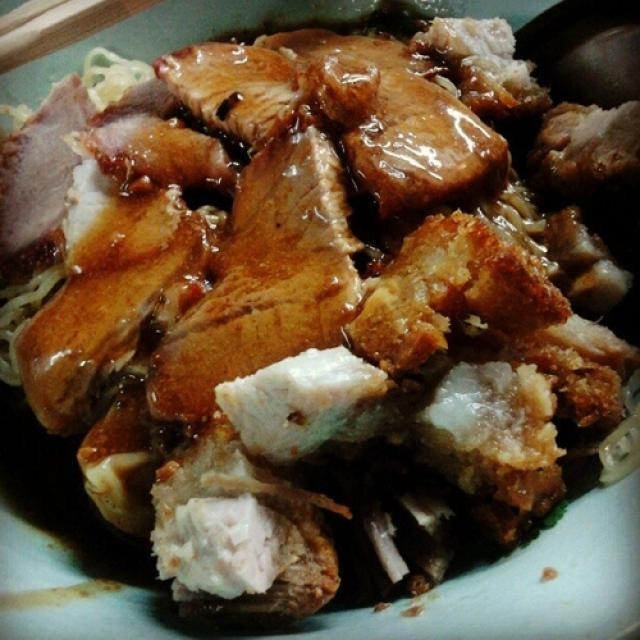猪肉菜式: (32, 13, 598, 599)
